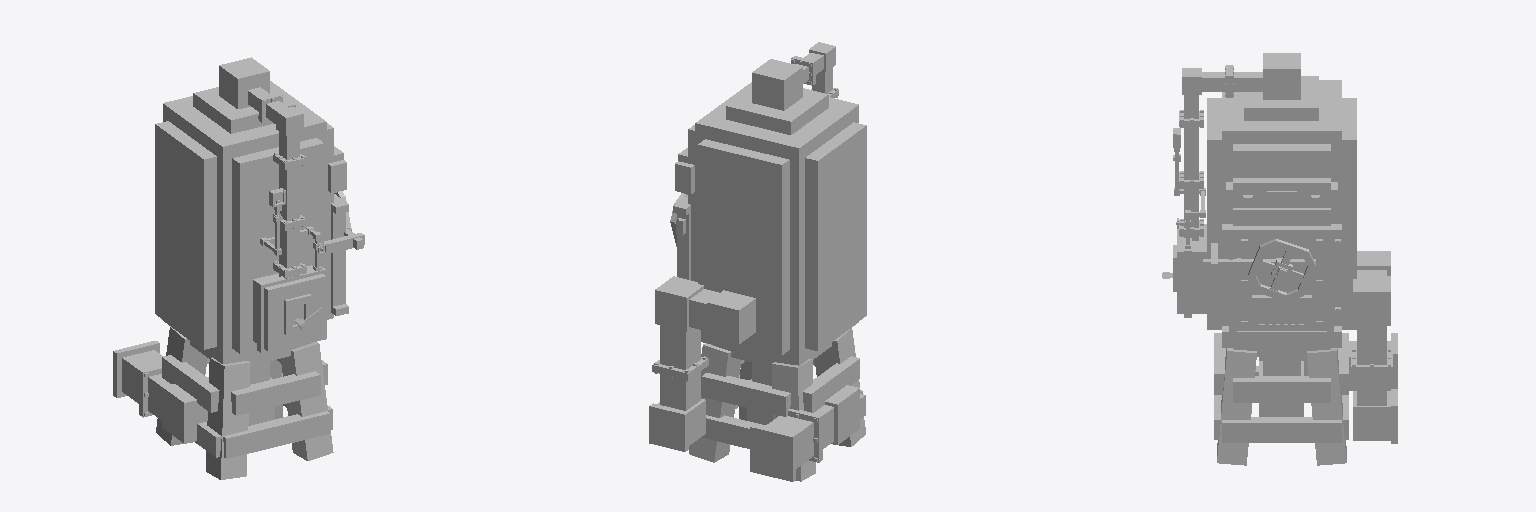
The model's file is solid_boiler.obj.
3 renders of one model, left to right at view 1: azimuth 30°, elevation 25°; view 2: azimuth 150°, elevation 25°; view 3: azimuth 270°, elevation 25°, orthographic.
Bounding box in the file's own units: 1.61 × 3.49 × 1.97.